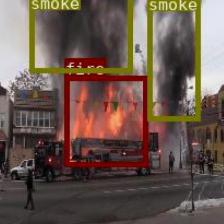fire: (64, 74, 147, 166)
smoke: (28, 0, 131, 72), (146, 0, 200, 120)
